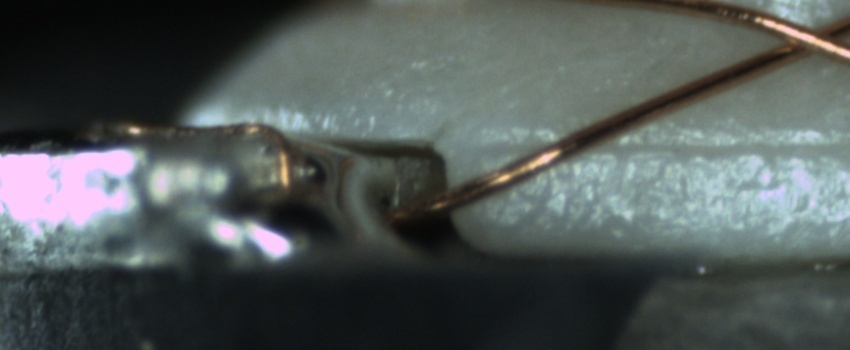CL: (757, 10, 847, 65)
DL: (481, 112, 849, 180)
TE: (105, 108, 298, 204)
